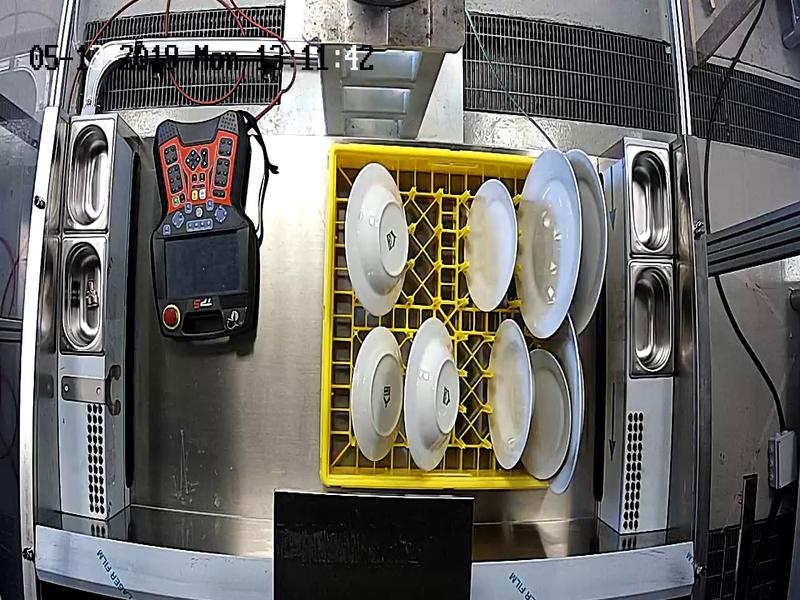Dish: (516, 150, 581, 335), (484, 317, 530, 470), (465, 179, 516, 313), (580, 146, 607, 343), (535, 345, 570, 480), (569, 323, 586, 501)
Inclined_dish: (344, 163, 408, 321), (404, 318, 463, 473), (349, 325, 404, 456)
